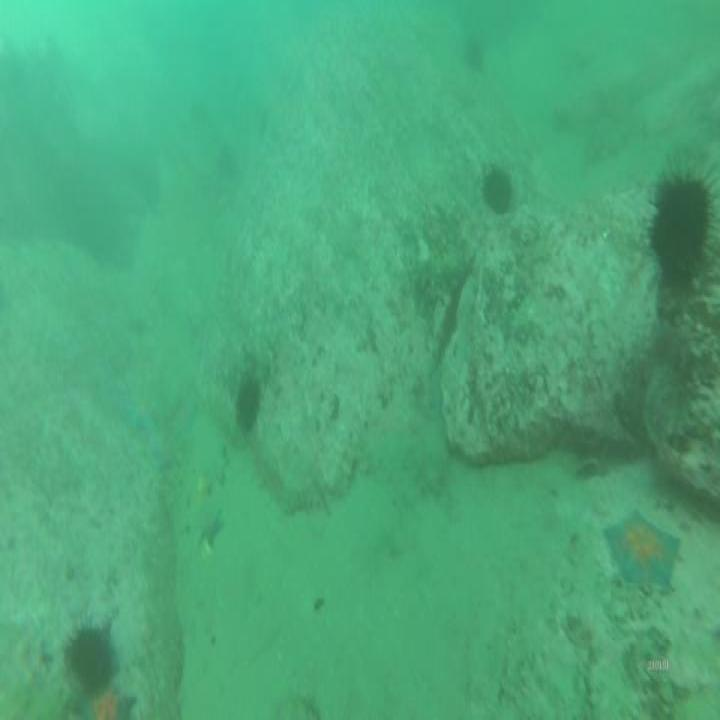echinus: (651, 176, 710, 290), (67, 626, 115, 693), (233, 380, 259, 428), (485, 167, 510, 210)
starfish: (602, 508, 679, 592), (200, 505, 225, 549), (125, 398, 153, 432), (150, 434, 175, 468)
